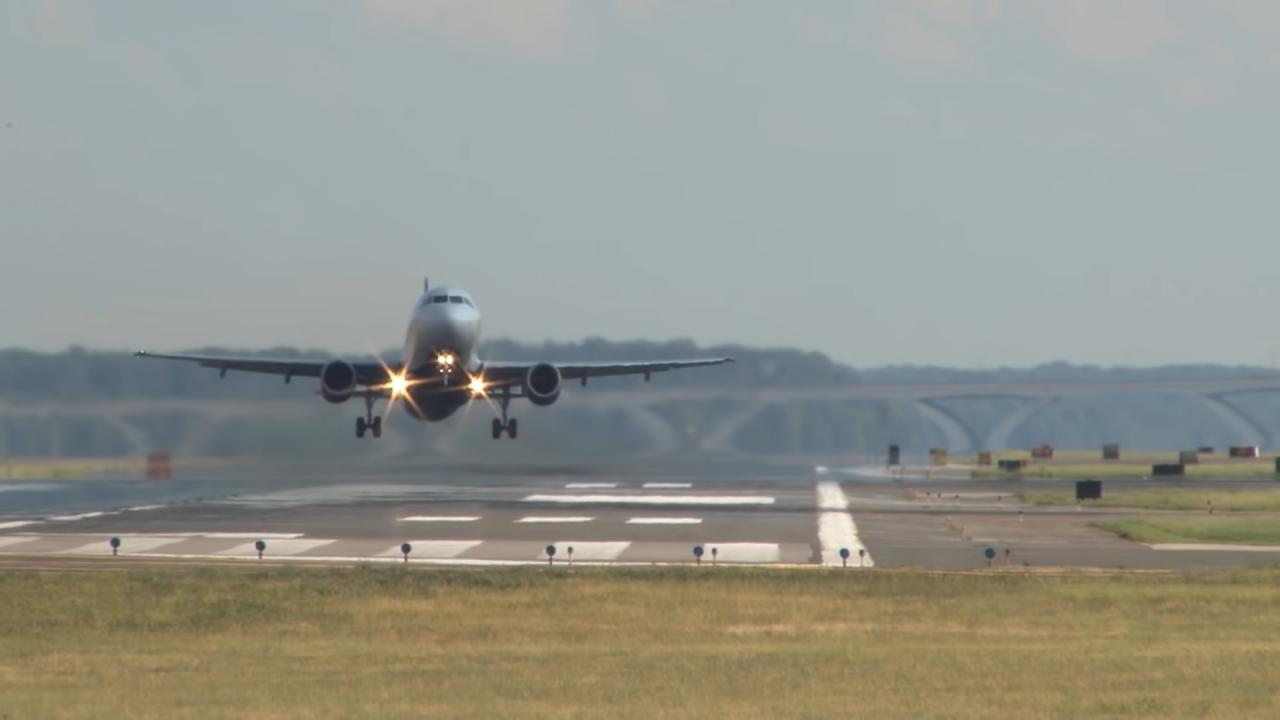Airplane: (121, 268, 748, 453)
